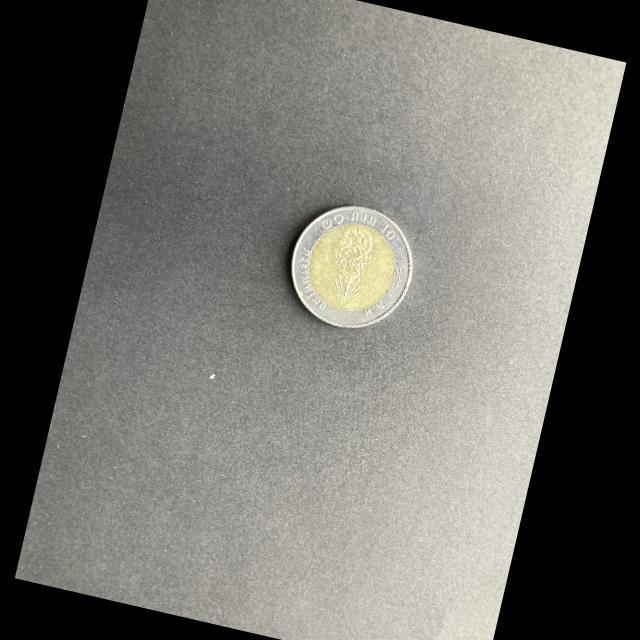10 Bath: (289, 202, 417, 331)
